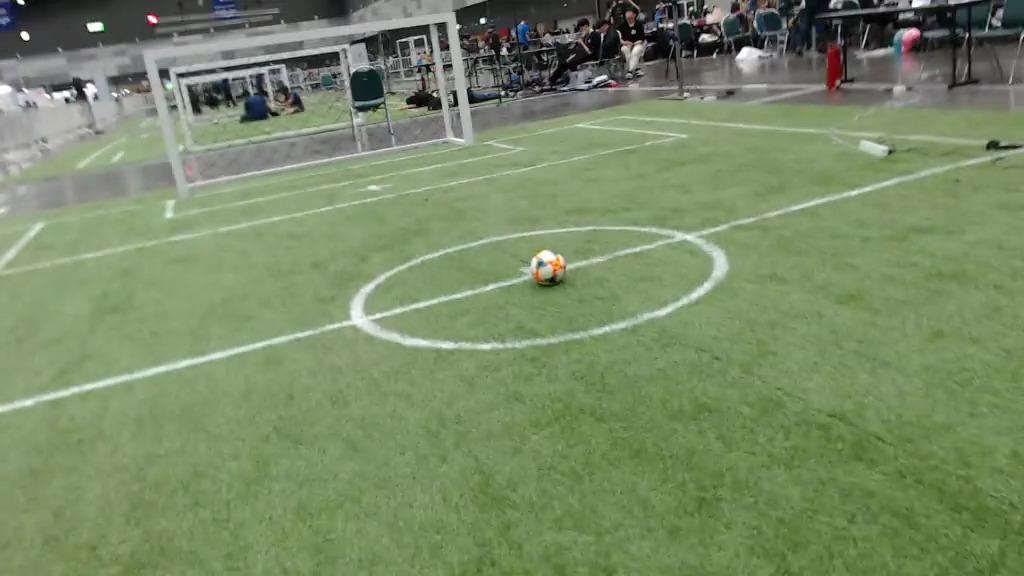ball: (528, 252, 568, 287)
